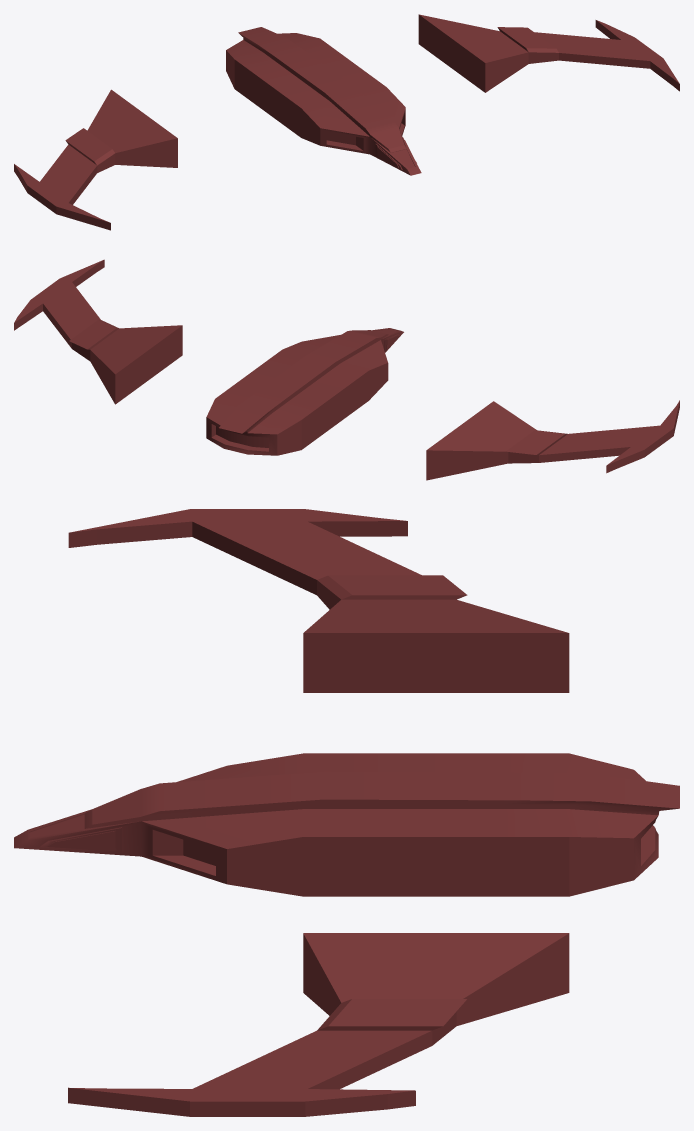
The model's file is DestroyedEnemeyFighter.fbx.
3 views of the same model, one above another, from view 1: azimuth 30°, elevation 25°; view 2: azimuth 150°, elevation 25°; view 3: azimuth 270°, elevation 25° (orthographic). The views are drawn at different scales.
Visible parts, largest first — view 1: EnemyFighterBase, EnemyFighterLW, EnemyFighterLW1; view 2: EnemyFighterBase, EnemyFighterLW1, EnemyFighterLW; view 3: EnemyFighterBase, EnemyFighterLW1, EnemyFighterLW.
Boxes of the visible parts, left/top/right/bottom form: EnemyFighterBase: left=226, top=27, right=421, bottom=175; EnemyFighterLW: left=418, top=14, right=679, bottom=92; EnemyFighterLW1: left=14, top=89, right=177, bottom=230; EnemyFighterBase: left=206, top=328, right=403, bottom=455; EnemyFighterLW1: left=426, top=400, right=679, bottom=480; EnemyFighterLW: left=14, top=259, right=182, bottom=404; EnemyFighterBase: left=14, top=753, right=679, bottom=896; EnemyFighterLW1: left=68, top=509, right=569, bottom=692; EnemyFighterLW: left=68, top=933, right=569, bottom=1116.
Bounding box in the file's own units: 154 × 9.57 × 73.24.
